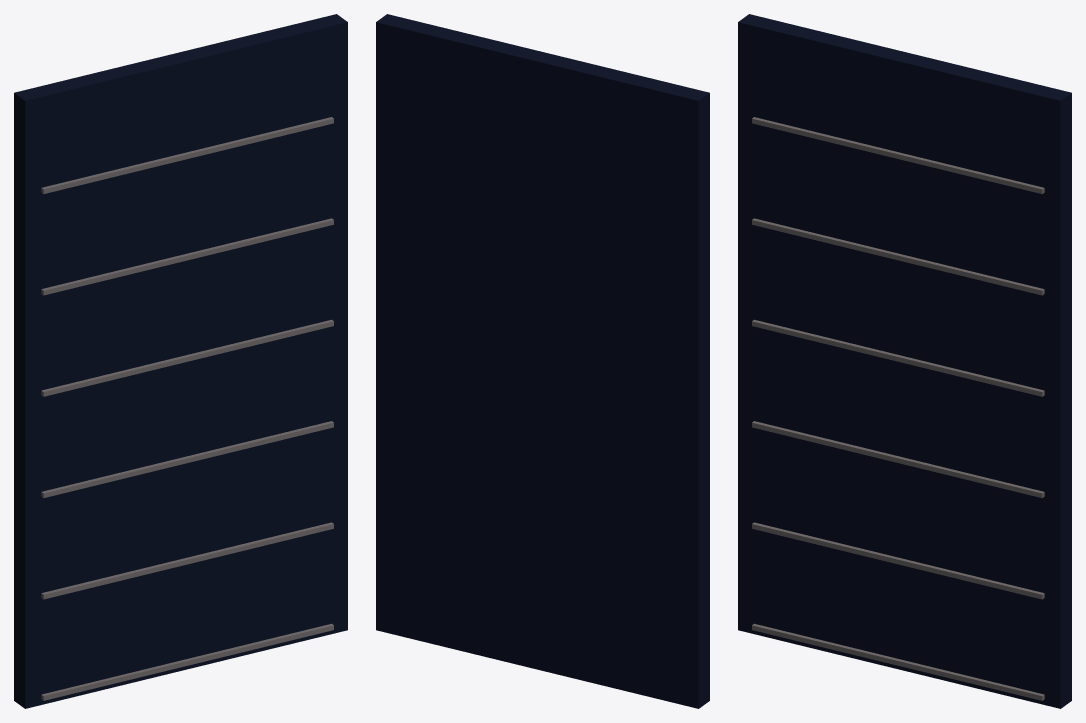
File: env_base99_wall_plain_5x9_visual_top3d_v001.glb
3 views of the same model, side by side, from view 1: azimuth 30°, elevation 25°; view 2: azimuth 150°, elevation 25°; view 3: azimuth 330°, elevation 25° (orthographic).
Parts seen in each view (by area): view 1: 普通墙体_主体_金属哑光反光; view 2: 普通墙体_主体_金属哑光反光; view 3: 普通墙体_主体_金属哑光反光.
Part boxes in pixels (x1,y1,x2,y2): 普通墙体_主体_金属哑光反光: (14, 14, 347, 708); 普通墙体_主体_金属哑光反光: (376, 14, 709, 708); 普通墙体_主体_金属哑光反光: (738, 14, 1071, 708).
Bounding box in the file's own units: 5 × 9 × 0.36.
Materials: 2 (2 with a texture image).
